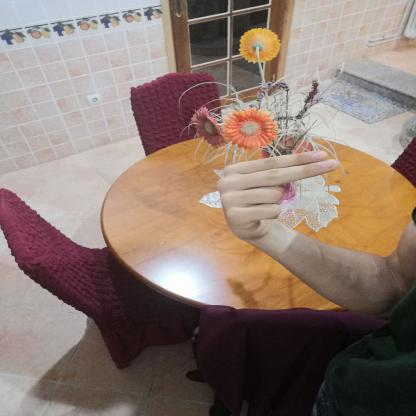AYN: (203, 144, 355, 248)
